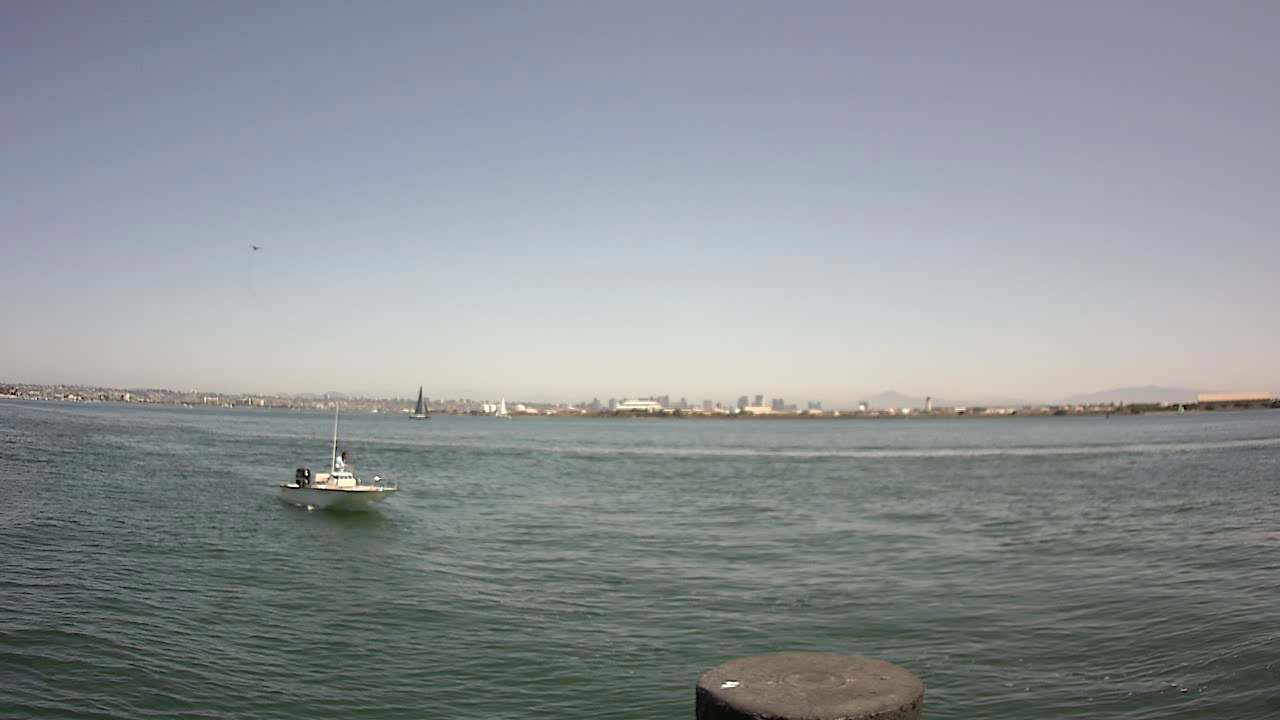target: (273, 447, 402, 521)
